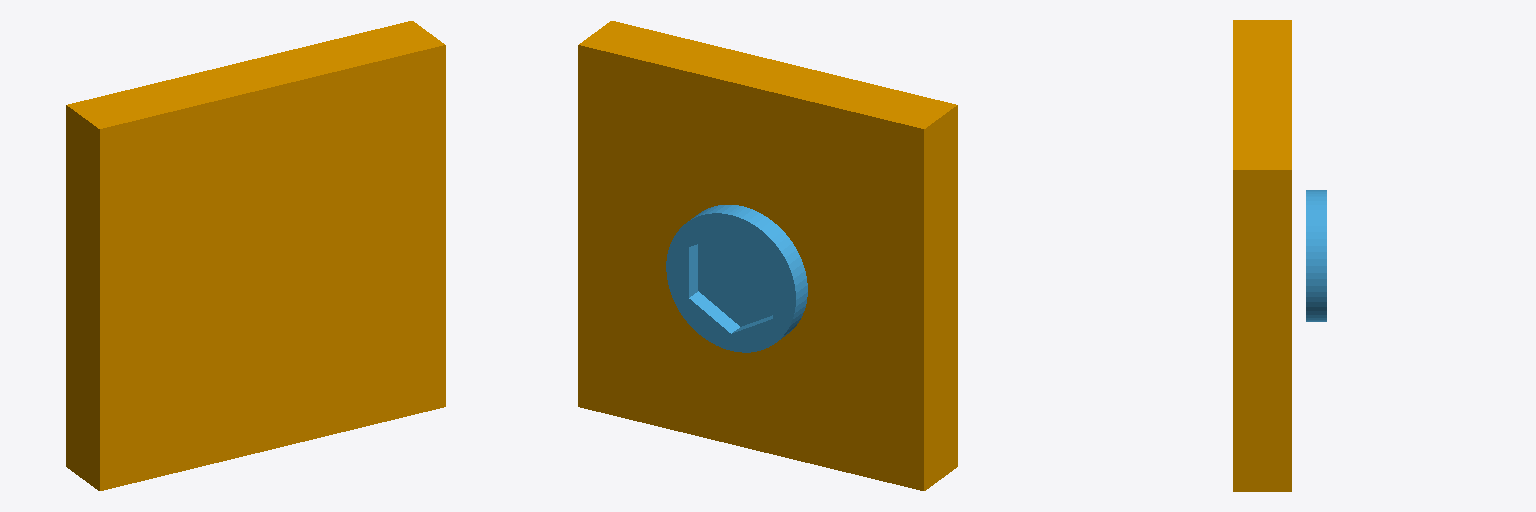
The robot description file, URDF, robot "hex_screw_base":
<?xml version="1.0"?>
<robot name="hex_screw_base">

  <link name="base">
    <visual>
      <origin xyz="0 0.01 0" rpy="0 0 0"/>
      <geometry>
        <box size="0.12 0.02 0.12"/>
      </geometry>
    </visual>	
    <collision>
      <origin xyz="0 0.01 0" rpy="0 0 0"/>
      <geometry>
        <box size="0.12 0.02 0.12"/>
      </geometry>
    </collision>
  </link>

  <link name="screw">
    <visual>
      <origin xyz="0 0 0" rpy="0 0 0"/>
      <geometry>
        <mesh filename="hex_screw/screw_head.obj" scale="0.001125 0.001125 0.001125"/>
      </geometry>
    </visual>	
    <collision>
      <origin xyz="0 0 0" rpy="0 0 0"/>
      <geometry>
        <mesh filename="hex_screw/screw_head.obj" scale="0.001125 0.001125 0.001125"/>
      </geometry>
    </collision>
  </link>

  <joint name="screw_to_base" type="revolute">
    <parent link="base"/>
    <child link="screw"/>
    <origin xyz="0 0.025 0"/>
    <axis xyz="0 1 0"/>
    <limit lower="-3.14" upper="3.14" effort="100" velocity="3"/>
  </joint>

</robot>

--- What the picture shows (computed from the rendered views, not written in the file) ---
The picture shows the robot from 3 angles, left to right: view 1: azimuth 30°, elevation 25°; view 2: azimuth 150°, elevation 25°; view 3: azimuth 270°, elevation 25°; orthographic projection.
Robot: hex_screw_base — 2 links, 1 joints (1 revolute); root link base; default pose: all joints at 0.
Links seen in each view (by area): view 1: base; view 2: base, screw; view 3: base, screw.
Boxes of the visible links, x1=… form: base: x1=66, y1=21, x2=445, y2=490; base: x1=578, y1=21, x2=957, y2=490; screw: x1=666, y1=205, x2=807, y2=352; base: x1=1233, y1=20, x2=1291, y2=491; screw: x1=1306, y1=190, x2=1326, y2=321.
Bounding box of the posed robot: 0.12 × 0.0321 × 0.12 m (x, y, z).
1 mesh visuals loaded from 1 distinct referenced files (1 OBJ).